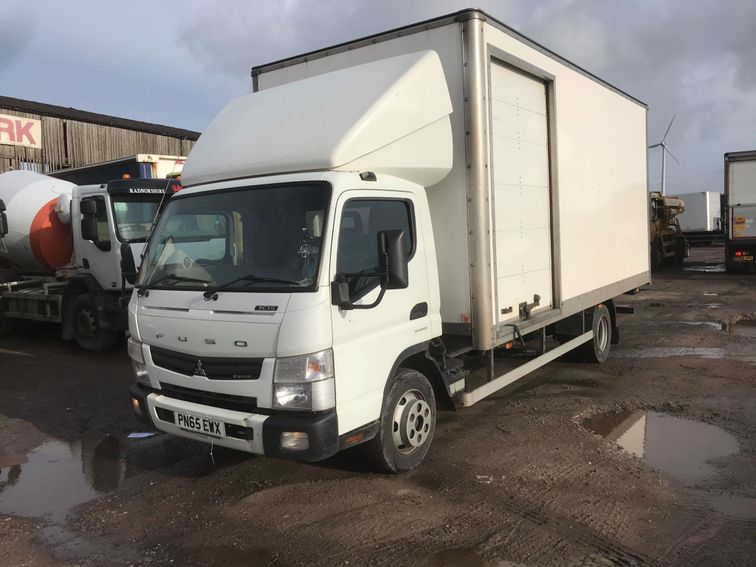Semi: (125, 6, 652, 475)
